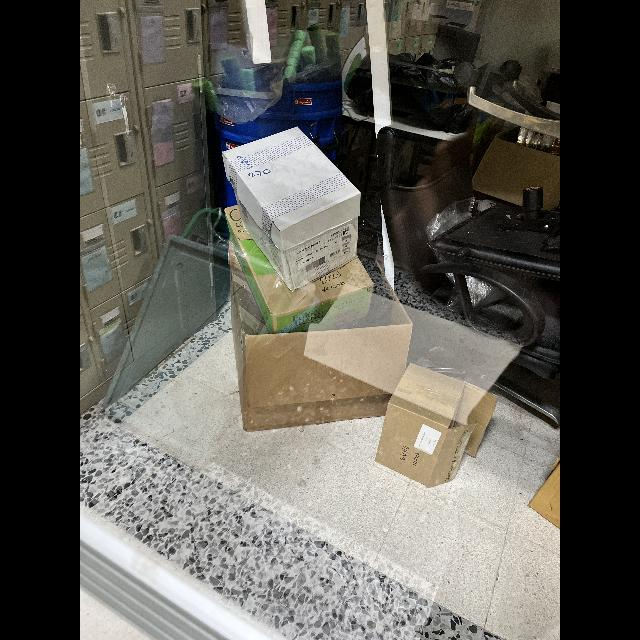cardboard_box: (223, 258, 415, 434), (220, 126, 372, 294), (368, 362, 502, 488)
